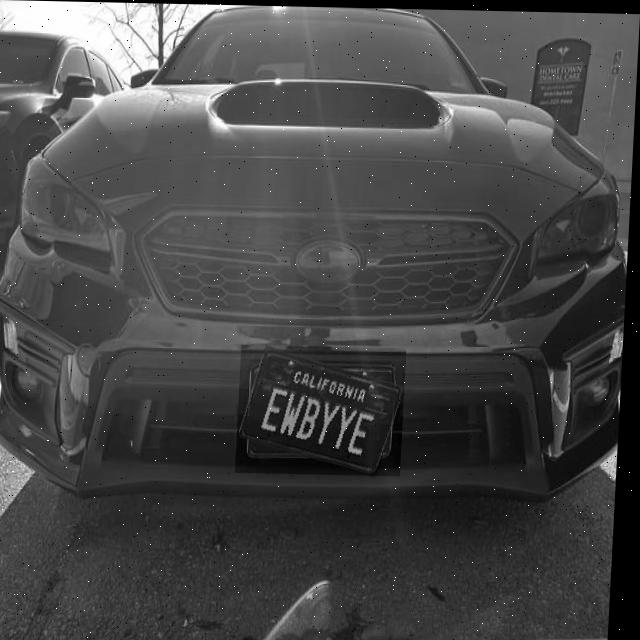LicensePlate: (241, 345, 409, 474)
